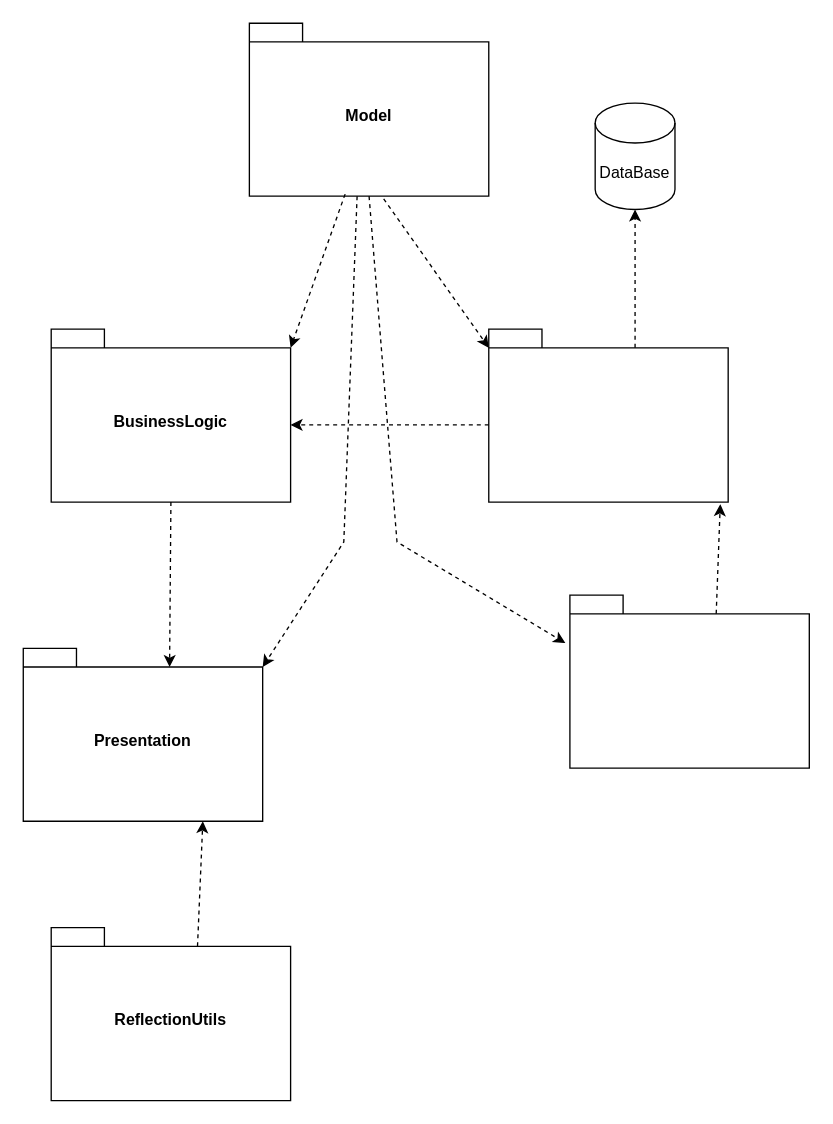
Image size: 833x1124. Some labels were removed from this diagram. Each missing label, with the box of its shape:
Connection: (569, 594, 809, 768)
DataAccess: (487, 328, 728, 502)
